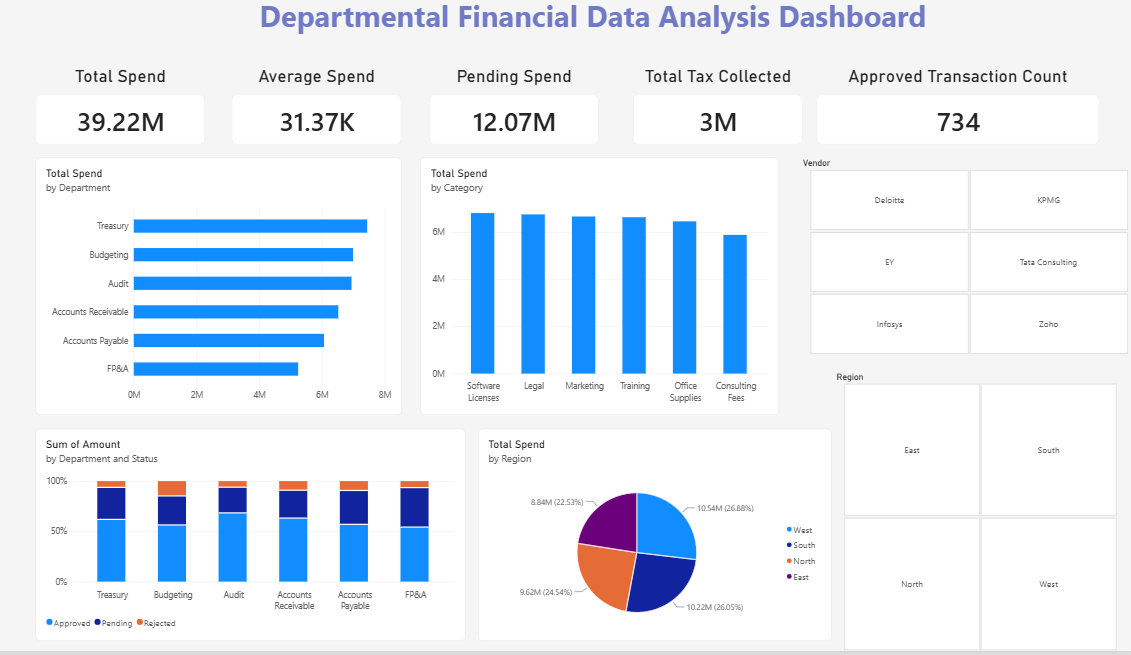

Layout of this report page (visuals, bound fields, positions):
{"tool":"powerbi","page":{"name":"Overview","canvas":[1920,1080],"ordinal":0},"visuals":[{"type":"cardVisual","title":"Total Spend","fields":{"Data":["Financial Transactions.Total Spend"]},"box":[102.9,115.3,279.9,131.7],"z":0},{"type":"cardVisual","title":"Average Spend","fields":{"Data":["Financial Transactions.Average Spend"]},"box":[426.1,115.3,279.9,131.7],"z":2000},{"type":"cardVisual","title":"Approved Transaction Count","fields":{"Data":["Financial Transactions.Approved Transaction Count"]},"box":[1389.4,115.3,465.2,131.7],"z":3000},{"type":"cardVisual","title":"Pending Spend","fields":{"Data":["Financial Transactions.Pending Spend"]},"box":[751.3,115.3,279.9,131.7],"z":4000},{"type":"clusteredBarChart","fields":{"Category":["Financial Transactions.Department"],"Y":["Financial Transactions.Total Spend"]},"box":[102.9,302.6,603.1,424],"z":5000},{"type":"clusteredColumnChart","fields":{"Y":["Financial Transactions.Total Spend"],"Category":["Financial Transactions.Category"]},"box":[734.8,302.6,590.7,424],"z":6000},{"type":"pieChart","fields":{"Category":["Financial Transactions.Region"],"Y":["Financial Transactions.Total Spend"]},"box":[831.6,745.1,582.5,319],"z":7000},{"type":"hundredPercentStackedColumnChart","fields":{"Category":["Financial Transactions.Department"],"Y":["Sum(Financial Transactions.Amount)"],"Series":["Financial Transactions.Status"]},"box":[102.9,745.1,708.1,319],"z":8000},{"type":"cardVisual","title":"Total Tax Collected","fields":{"Data":["Financial Transactions.Total Tax Collected"]},"box":[1086.8,115.3,279.9,131.7],"z":8001},{"type":"slicer","fields":{"Values":["Financial Transactions.Region"]},"box":[1414.1,656.6,487.8,424],"z":8002},{"type":"slicer","fields":{"Values":["Financial Transactions.Vendor"]},"box":[1340,302.6,561.9,325.2],"z":8003},{"type":"textbox","box":[242.9,0,1556.1,70],"z":8004}]}

Visuals, with their boxes in screenshot pixels (x1, y1, x2, y2), scaled from the page's 1920x1080 canvas onto the 1131x655 screenshot:
"Total Spend" cardVisual: region(61, 70, 225, 150)
"Average Spend" cardVisual: region(251, 70, 416, 150)
"Approved Transaction Count" cardVisual: region(818, 70, 1092, 150)
"Pending Spend" cardVisual: region(443, 70, 607, 150)
clusteredBarChart - Financial Transactions.Department x Financial Transactions.Total Spend: region(61, 184, 416, 441)
clusteredColumnChart - Financial Transactions.Total Spend x Financial Transactions.Category: region(433, 184, 781, 441)
pieChart - Financial Transactions.Region x Financial Transactions.Total Spend: region(490, 452, 833, 645)
hundredPercentStackedColumnChart - Financial Transactions.Department x Sum(Financial Transactions.Amount): region(61, 452, 478, 645)
"Total Tax Collected" cardVisual: region(640, 70, 805, 150)
slicer - Financial Transactions.Region: region(833, 398, 1120, 654)
slicer - Financial Transactions.Vendor: region(789, 184, 1120, 381)
textbox: region(143, 0, 1060, 42)
